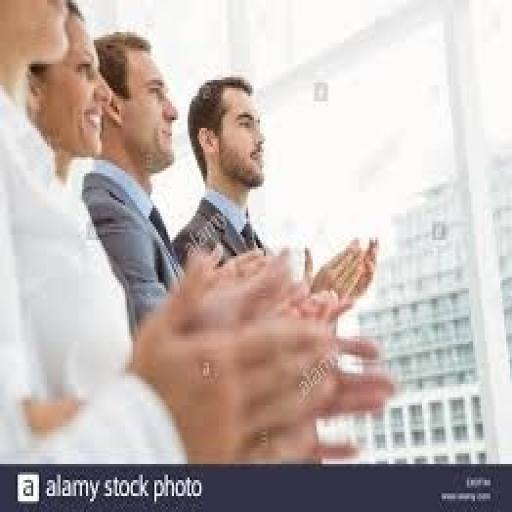clapping: (0, 0, 397, 464)
